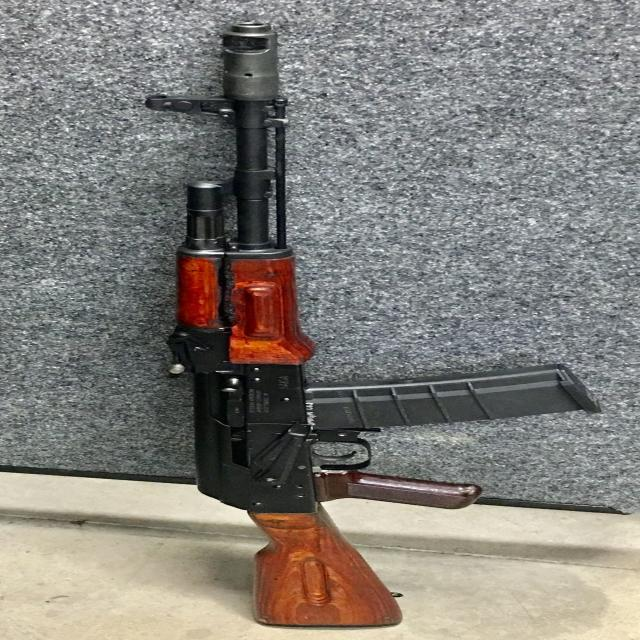weapon: (145, 22, 607, 630)
